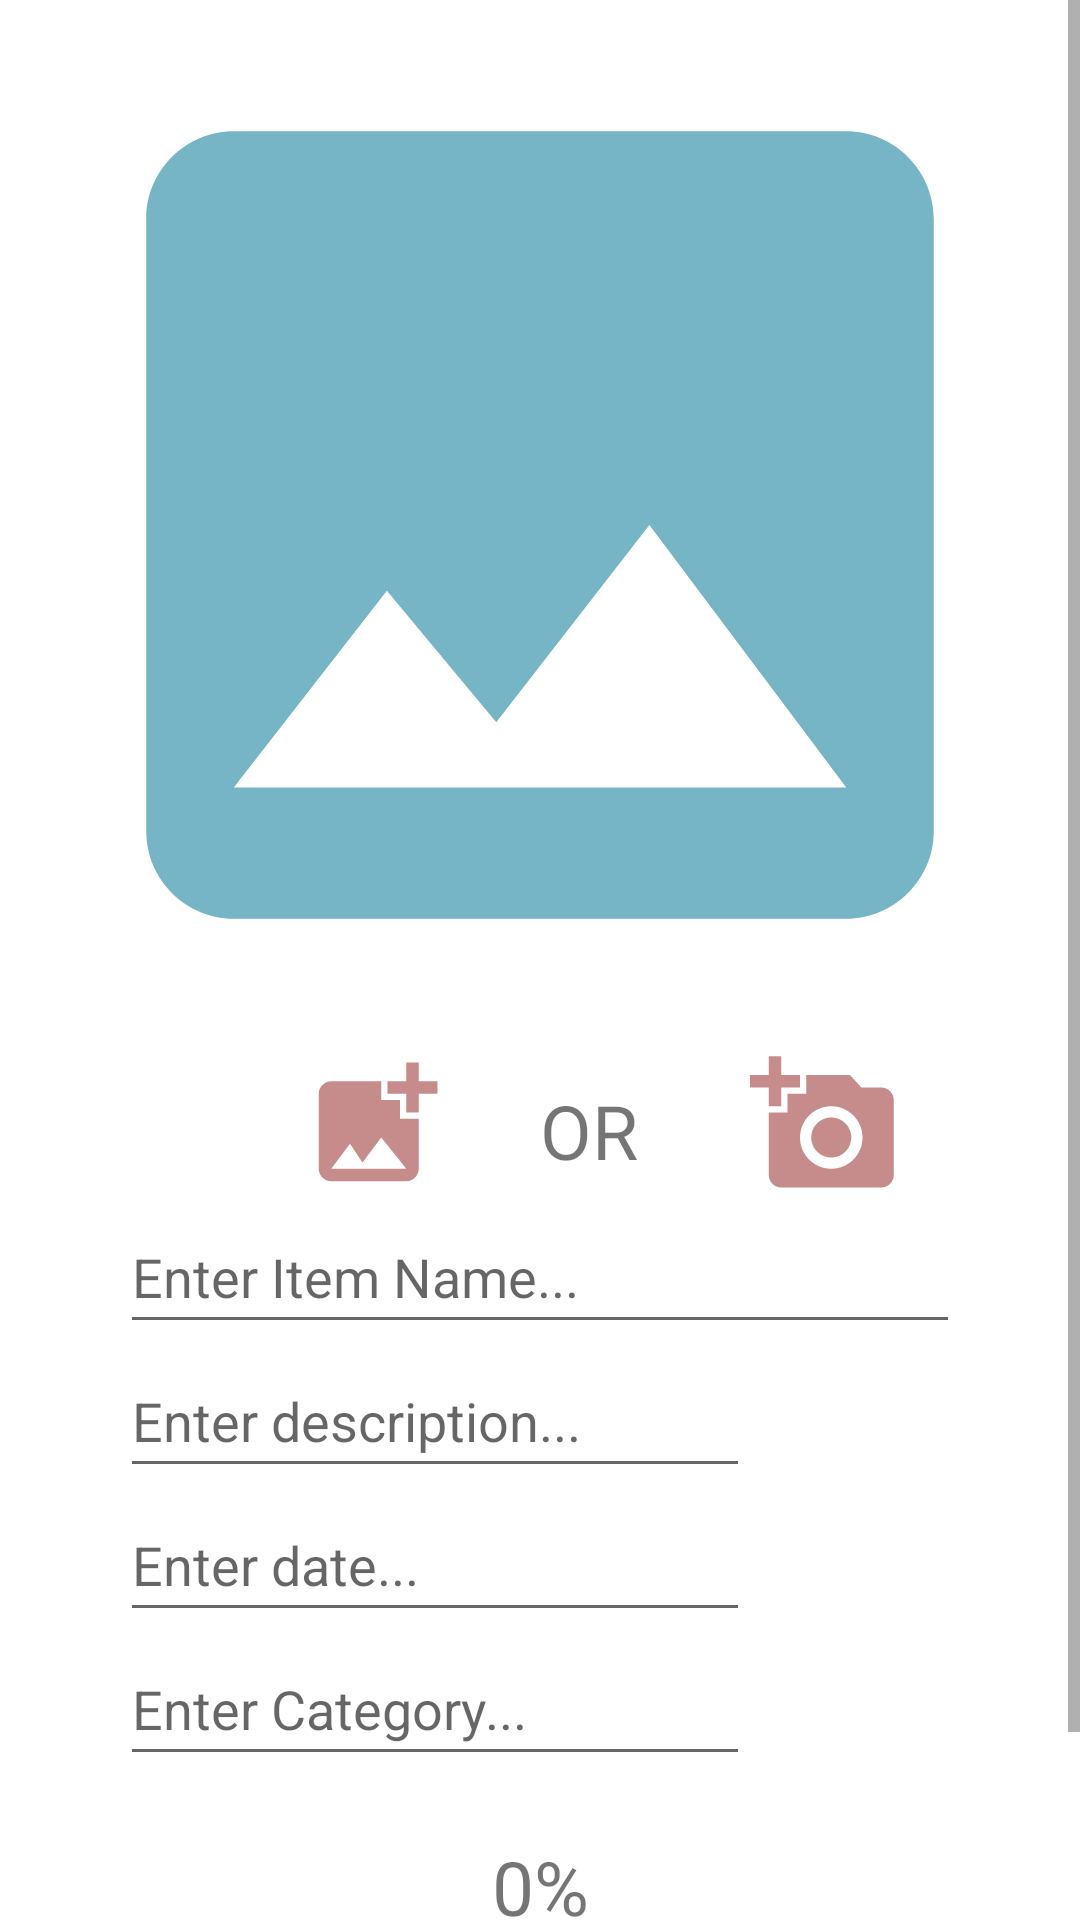

Locate icon controls on the screen. Image size 1080w x 1920h, boxes as [x1, y1, x2, y2].
gallery: [318, 1062, 438, 1182]
